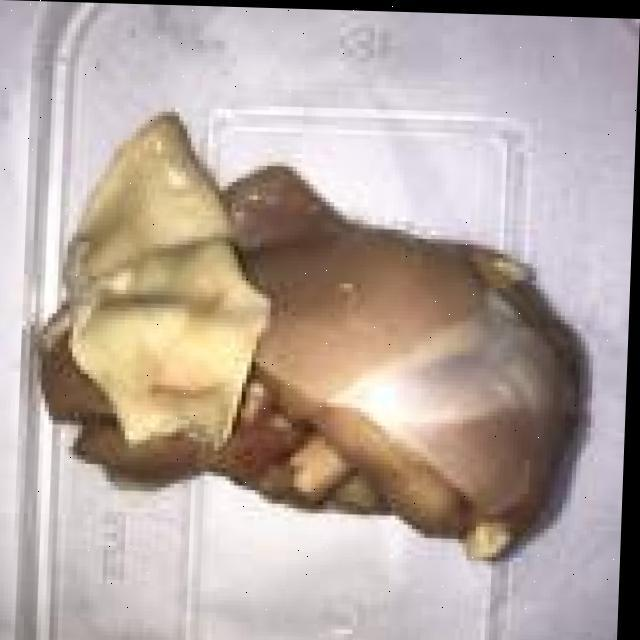breast: (67, 120, 592, 562)
